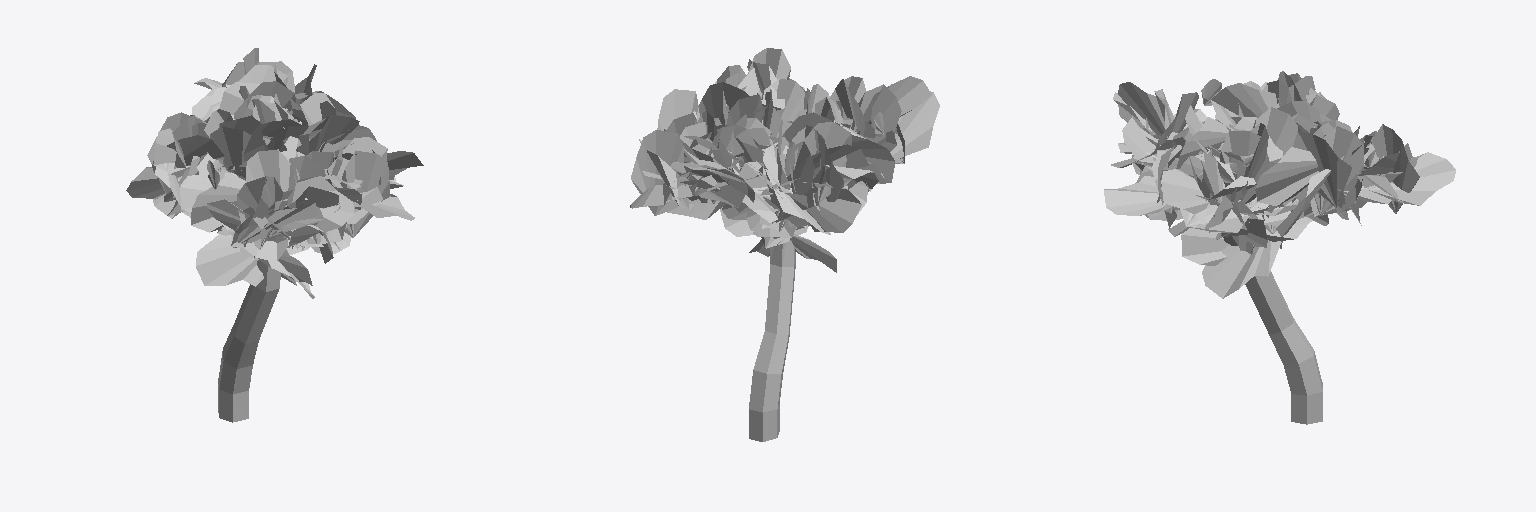
File: Tree03.obj
3 views of the same model, side by side, from view 1: azimuth 30°, elevation 25°; view 2: azimuth 150°, elevation 25°; view 3: azimuth 270°, elevation 25° (orthographic).
Parts seen in each view (by area): view 1: Tree_Branch, Cube; view 2: Tree_Branch, Cube; view 3: Tree_Branch, Cube.
Part boxes in pixels (x1,y1,x2,y2): Tree_Branch: (126,48,423,298); Cube: (218,166,357,422); Tree_Branch: (630,48,939,272); Cube: (749,240,795,441); Tree_Branch: (1104,71,1455,298); Cube: (1146,136,1322,424).
Bounding box in the file's own units: 15.89 × 23.08 × 22.15.